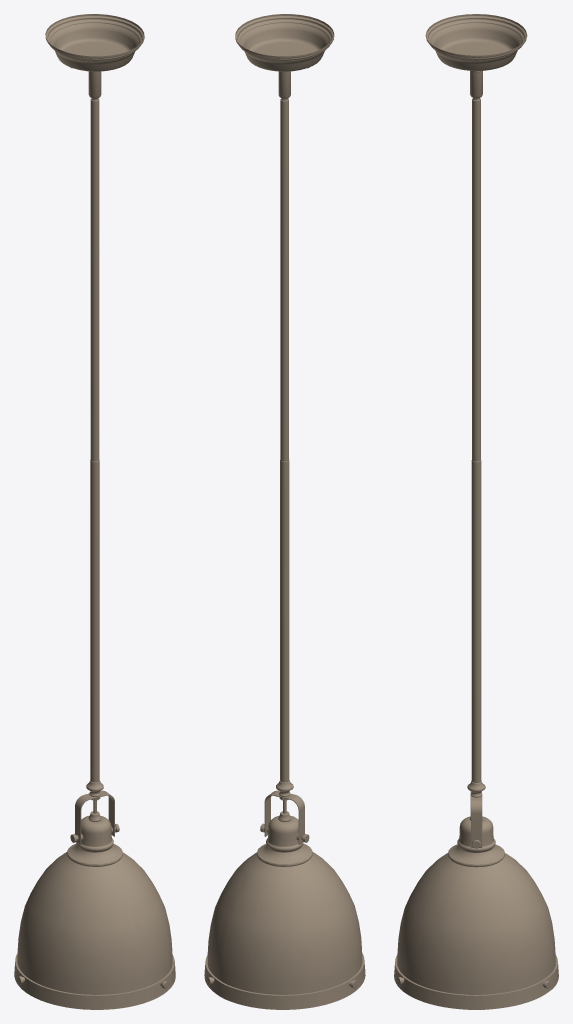
The model's file is abo-B071HSMXBT.glb.
3 renders of one model, left to right at view 1: azimuth 30°, elevation 25°; view 2: azimuth 150°, elevation 25°; view 3: azimuth 270°, elevation 25°, orthographic.
Size of the model in its own units: 0.217 by 1.37 by 0.217.
Materials: 1 (1 with a texture image).
